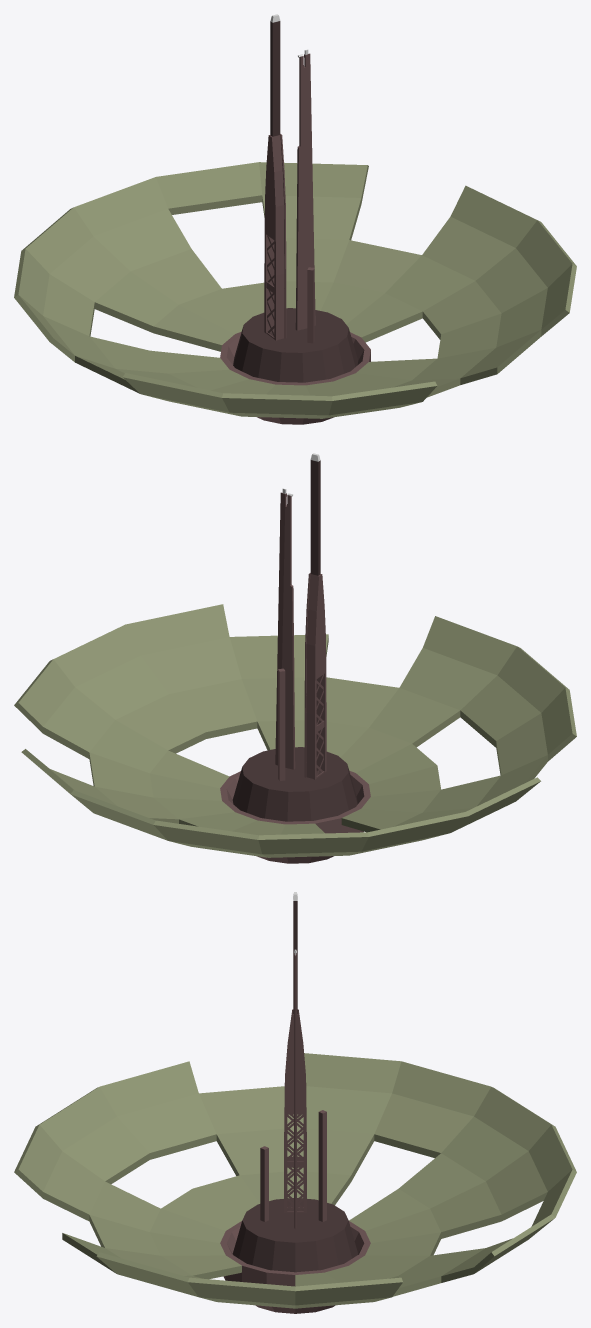
The model's file is BrokenDish.fbx.
3 views of the same model, one above another, from view 1: azimuth 30°, elevation 25°; view 2: azimuth 150°, elevation 25°; view 3: azimuth 270°, elevation 25° (orthographic).
Visible parts, largest first — view 1: Cube; view 2: Cube; view 3: Cube.
Part boxes in pixels (<box>): Cube: <box>14,14,576,424</box>; Cube: <box>14,453,576,863</box>; Cube: <box>14,892,576,1313</box>.
Bounding box in the file's own units: 193 × 147 × 193.
